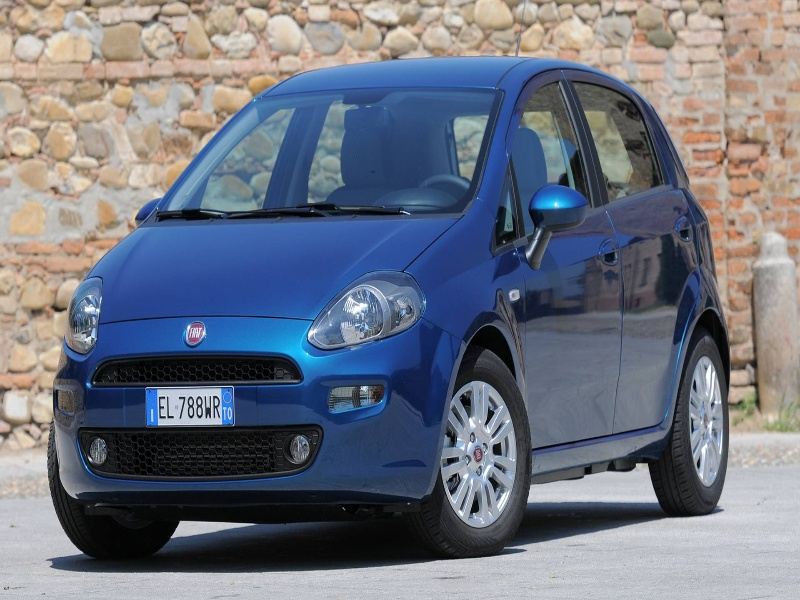licenceplate: (145, 387, 233, 426)
